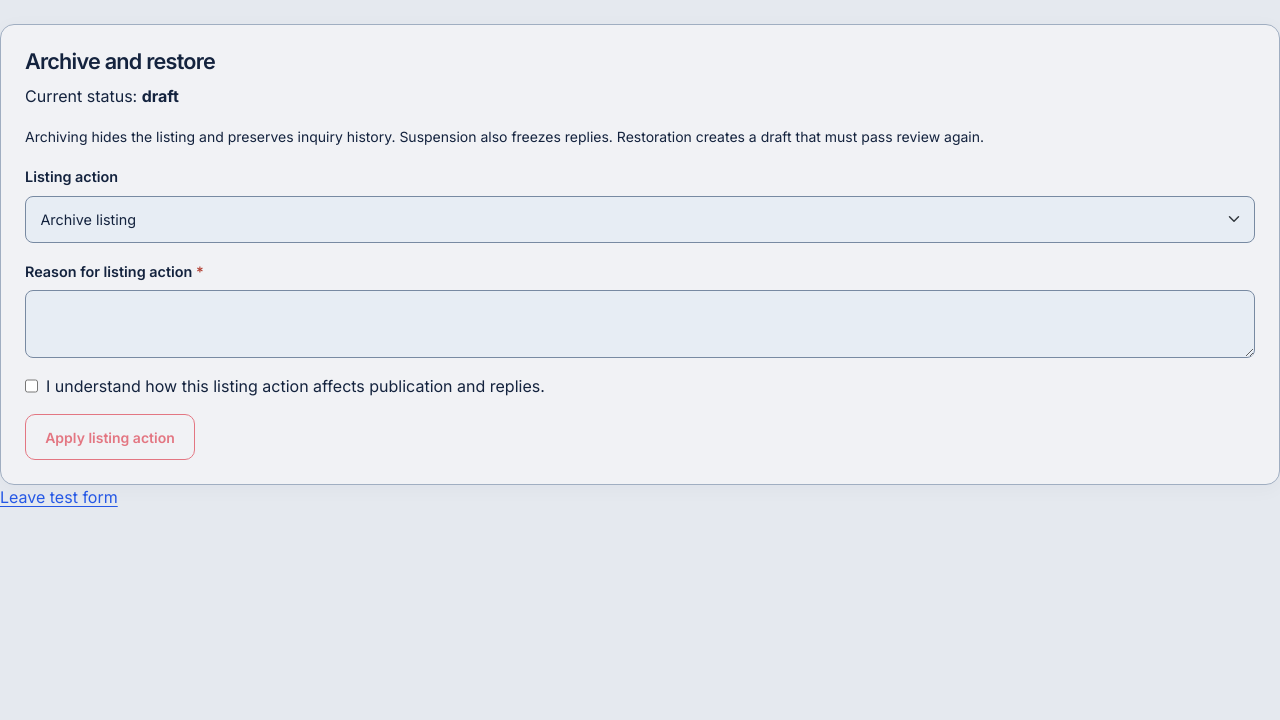
Test case: remaining moderation edit guards › keeps lifecycle notes on failure and clears only after success
In the text box labelled "Reason for listing action": (640, 324) [25, 290, 1255, 358], type "Synthetic listing action notes."
Click the checkbox labelled "I understand how this listing action affects publication and replies.": (32, 386) [25, 374, 38, 398]
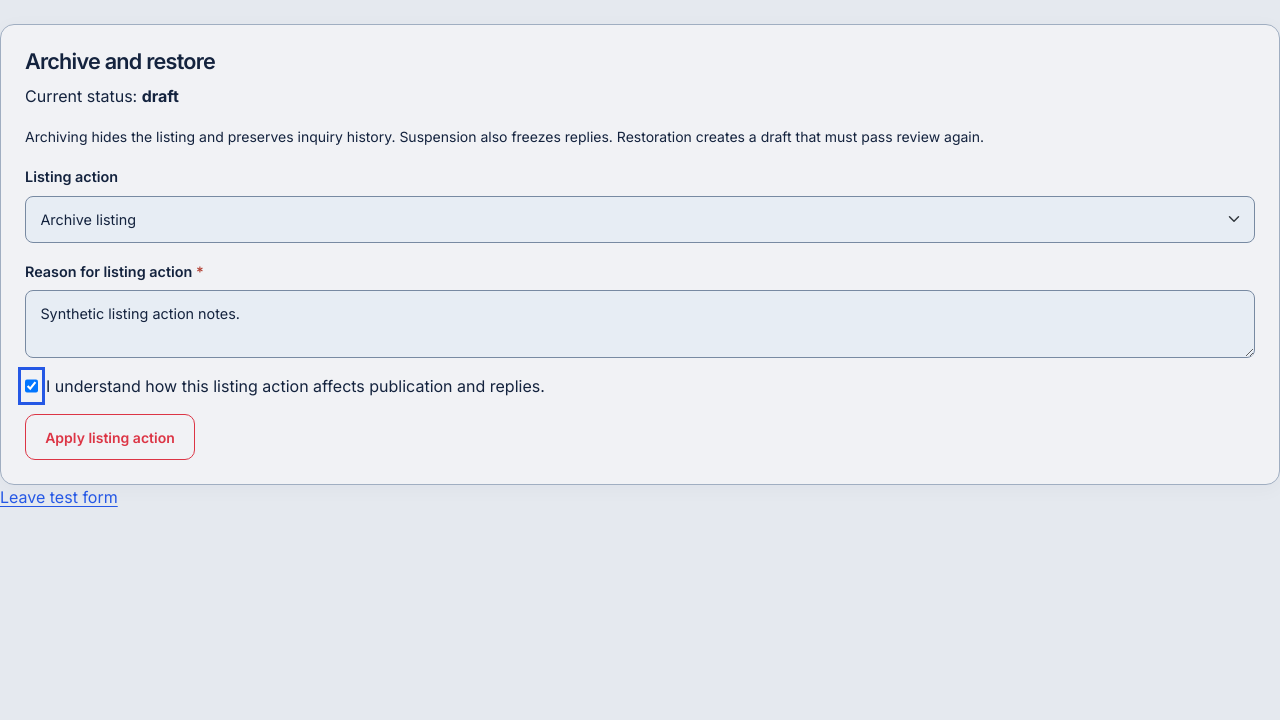
Click the button "Apply listing action": (110, 437) [25, 414, 195, 460]
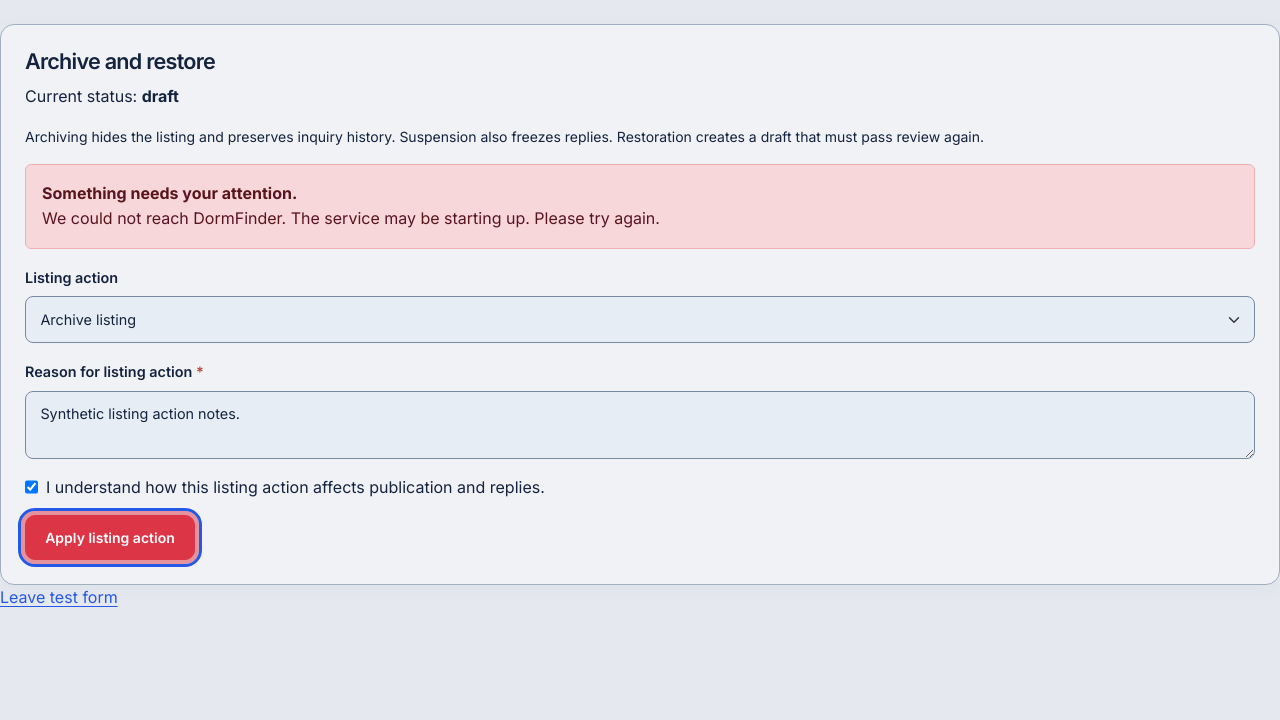
Check: the message is shown, box [25, 164, 1255, 249]
Click the link "Leave test form": (59, 597) [0, 587, 118, 607]
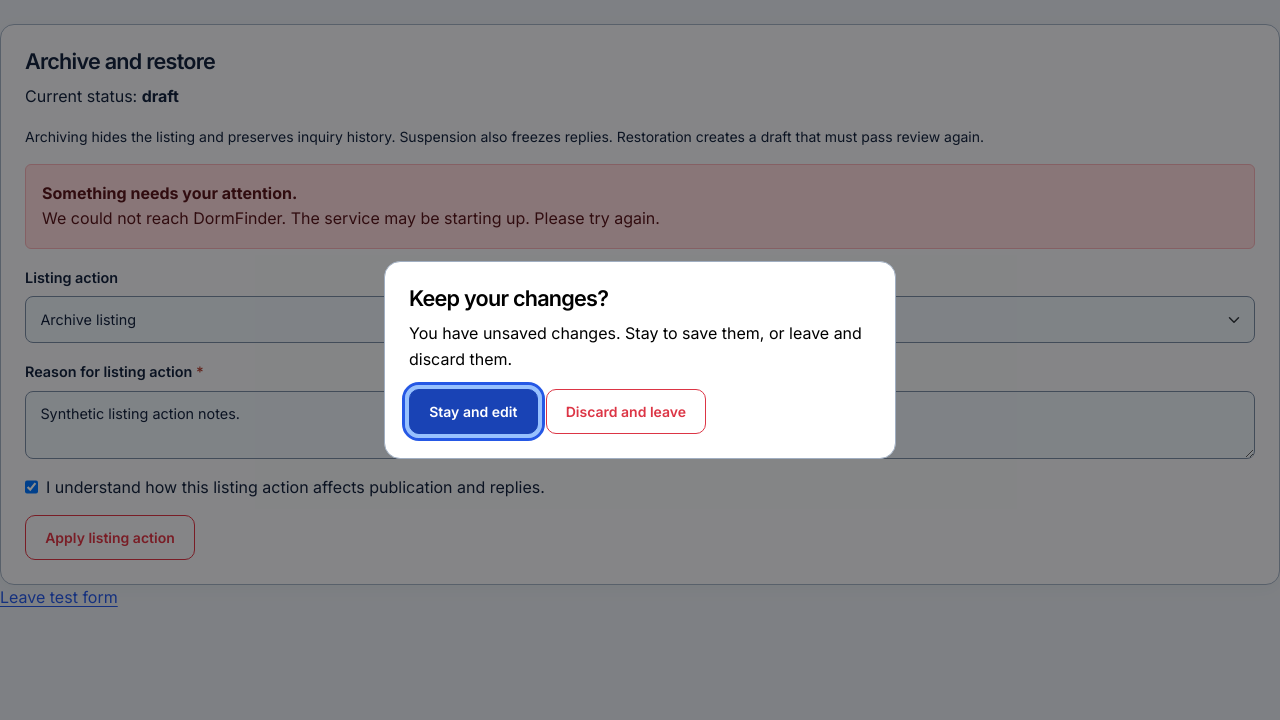
Check: the dialog is shown, box [384, 261, 896, 459]
Click the button "Stay and edit": (473, 411) [409, 389, 538, 434]
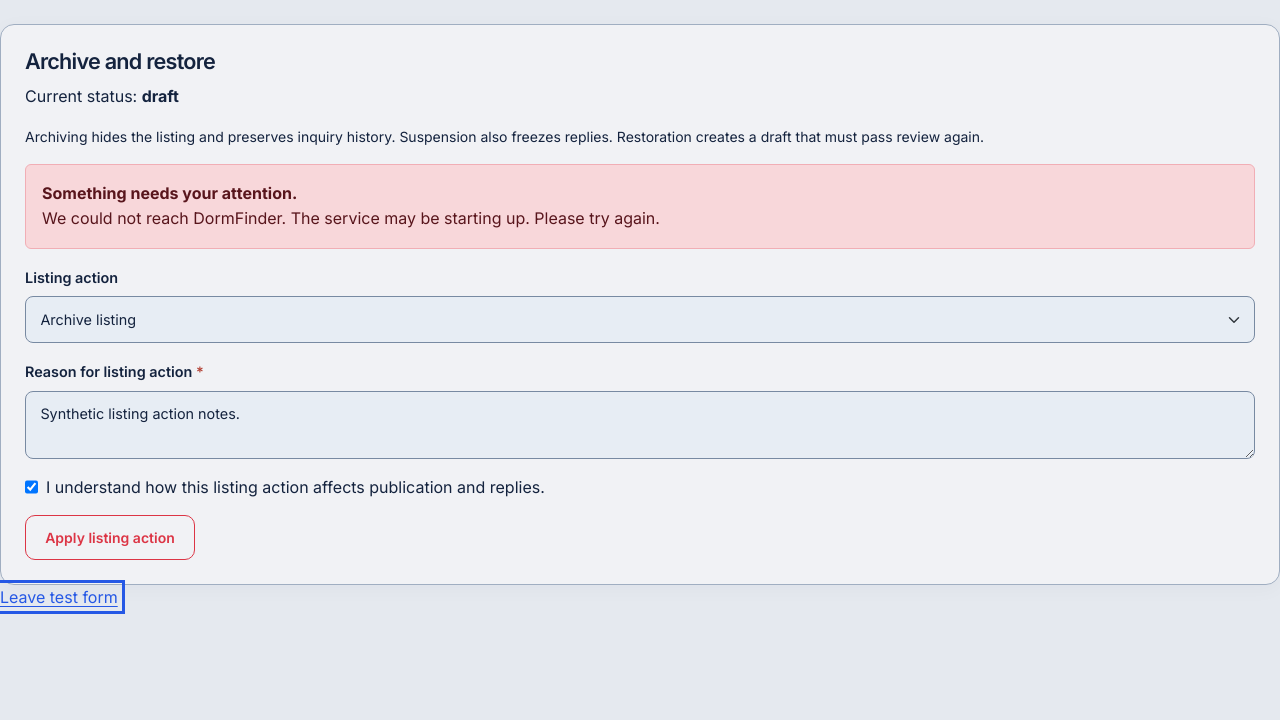
Click the button "Apply listing action": (110, 538) [25, 515, 195, 560]
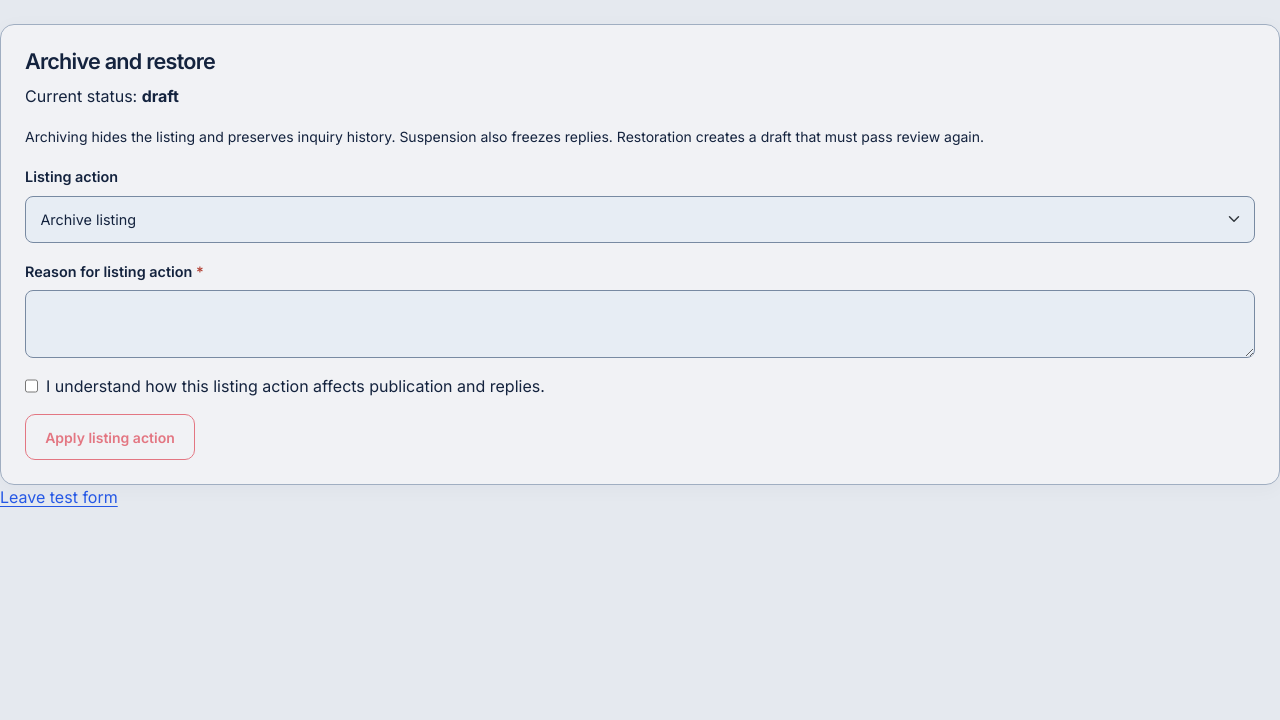
Check: the text box labelled "Reason for listing action" is empty, box [25, 290, 1255, 358]
Click the link "Leave test form": (59, 497) [0, 487, 118, 507]
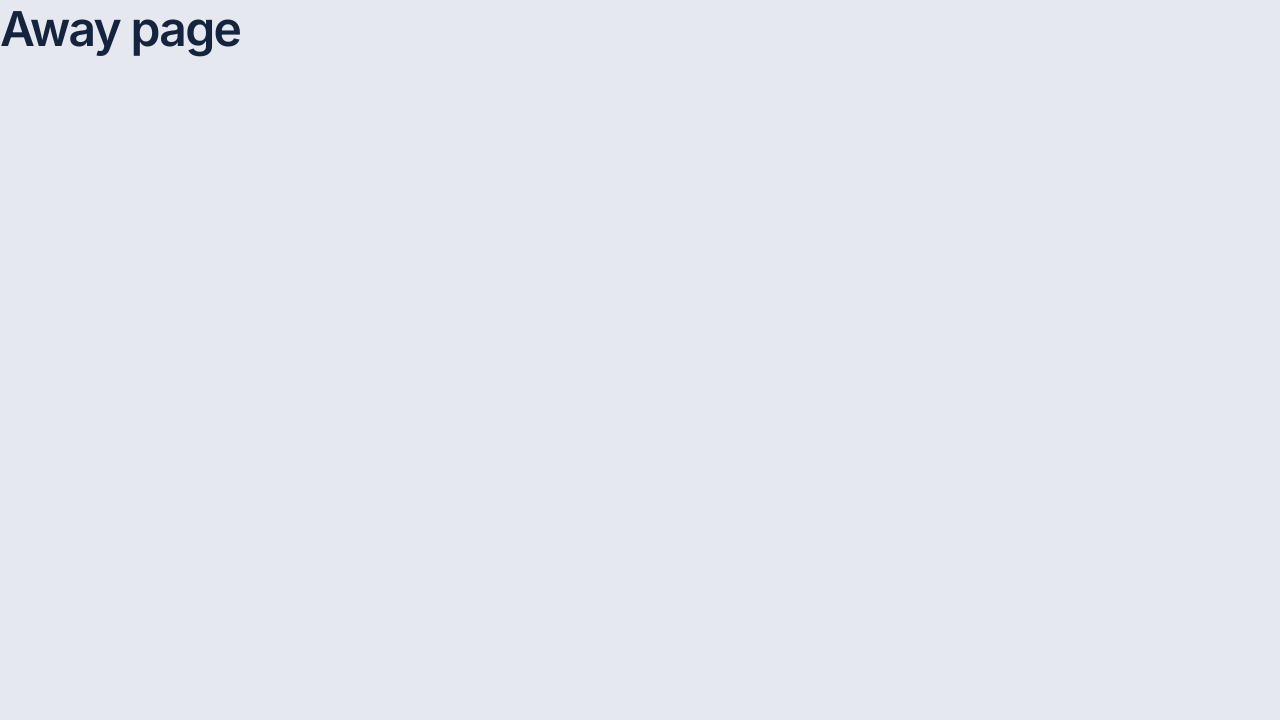
Check: the heading "Away page" is shown, box [0, 0, 240, 58]
